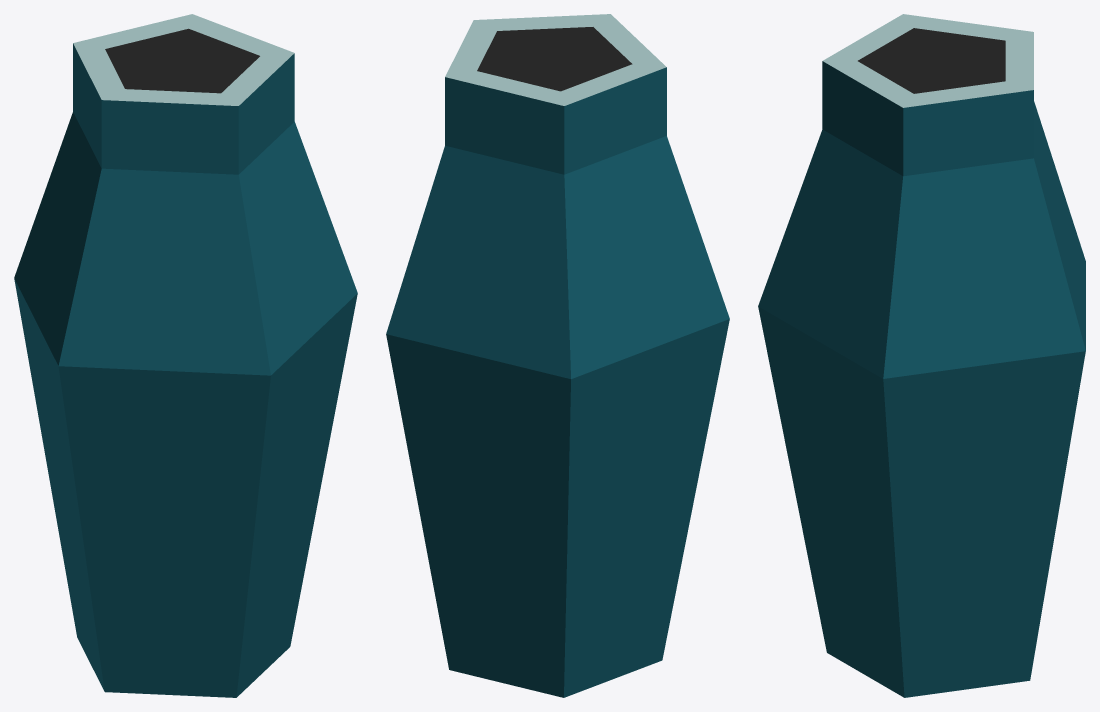
File: TB_Prop_Jar_Tall_C.FBX
The picture shows the model from 3 angles, left to right: view 1: azimuth 30°, elevation 25°; view 2: azimuth 150°, elevation 25°; view 3: azimuth 270°, elevation 25°; orthographic projection.
Visible parts, largest first — view 1: TB_Prop_Jar_Tall_C; view 2: TB_Prop_Jar_Tall_C; view 3: TB_Prop_Jar_Tall_C.
Part boxes in pixels (x1,y1,x2,y2): TB_Prop_Jar_Tall_C: (14, 14, 357, 697); TB_Prop_Jar_Tall_C: (386, 14, 729, 697); TB_Prop_Jar_Tall_C: (758, 14, 1085, 697).
Bounding box in the file's own units: 0.9512 × 1.8 × 0.9046.
